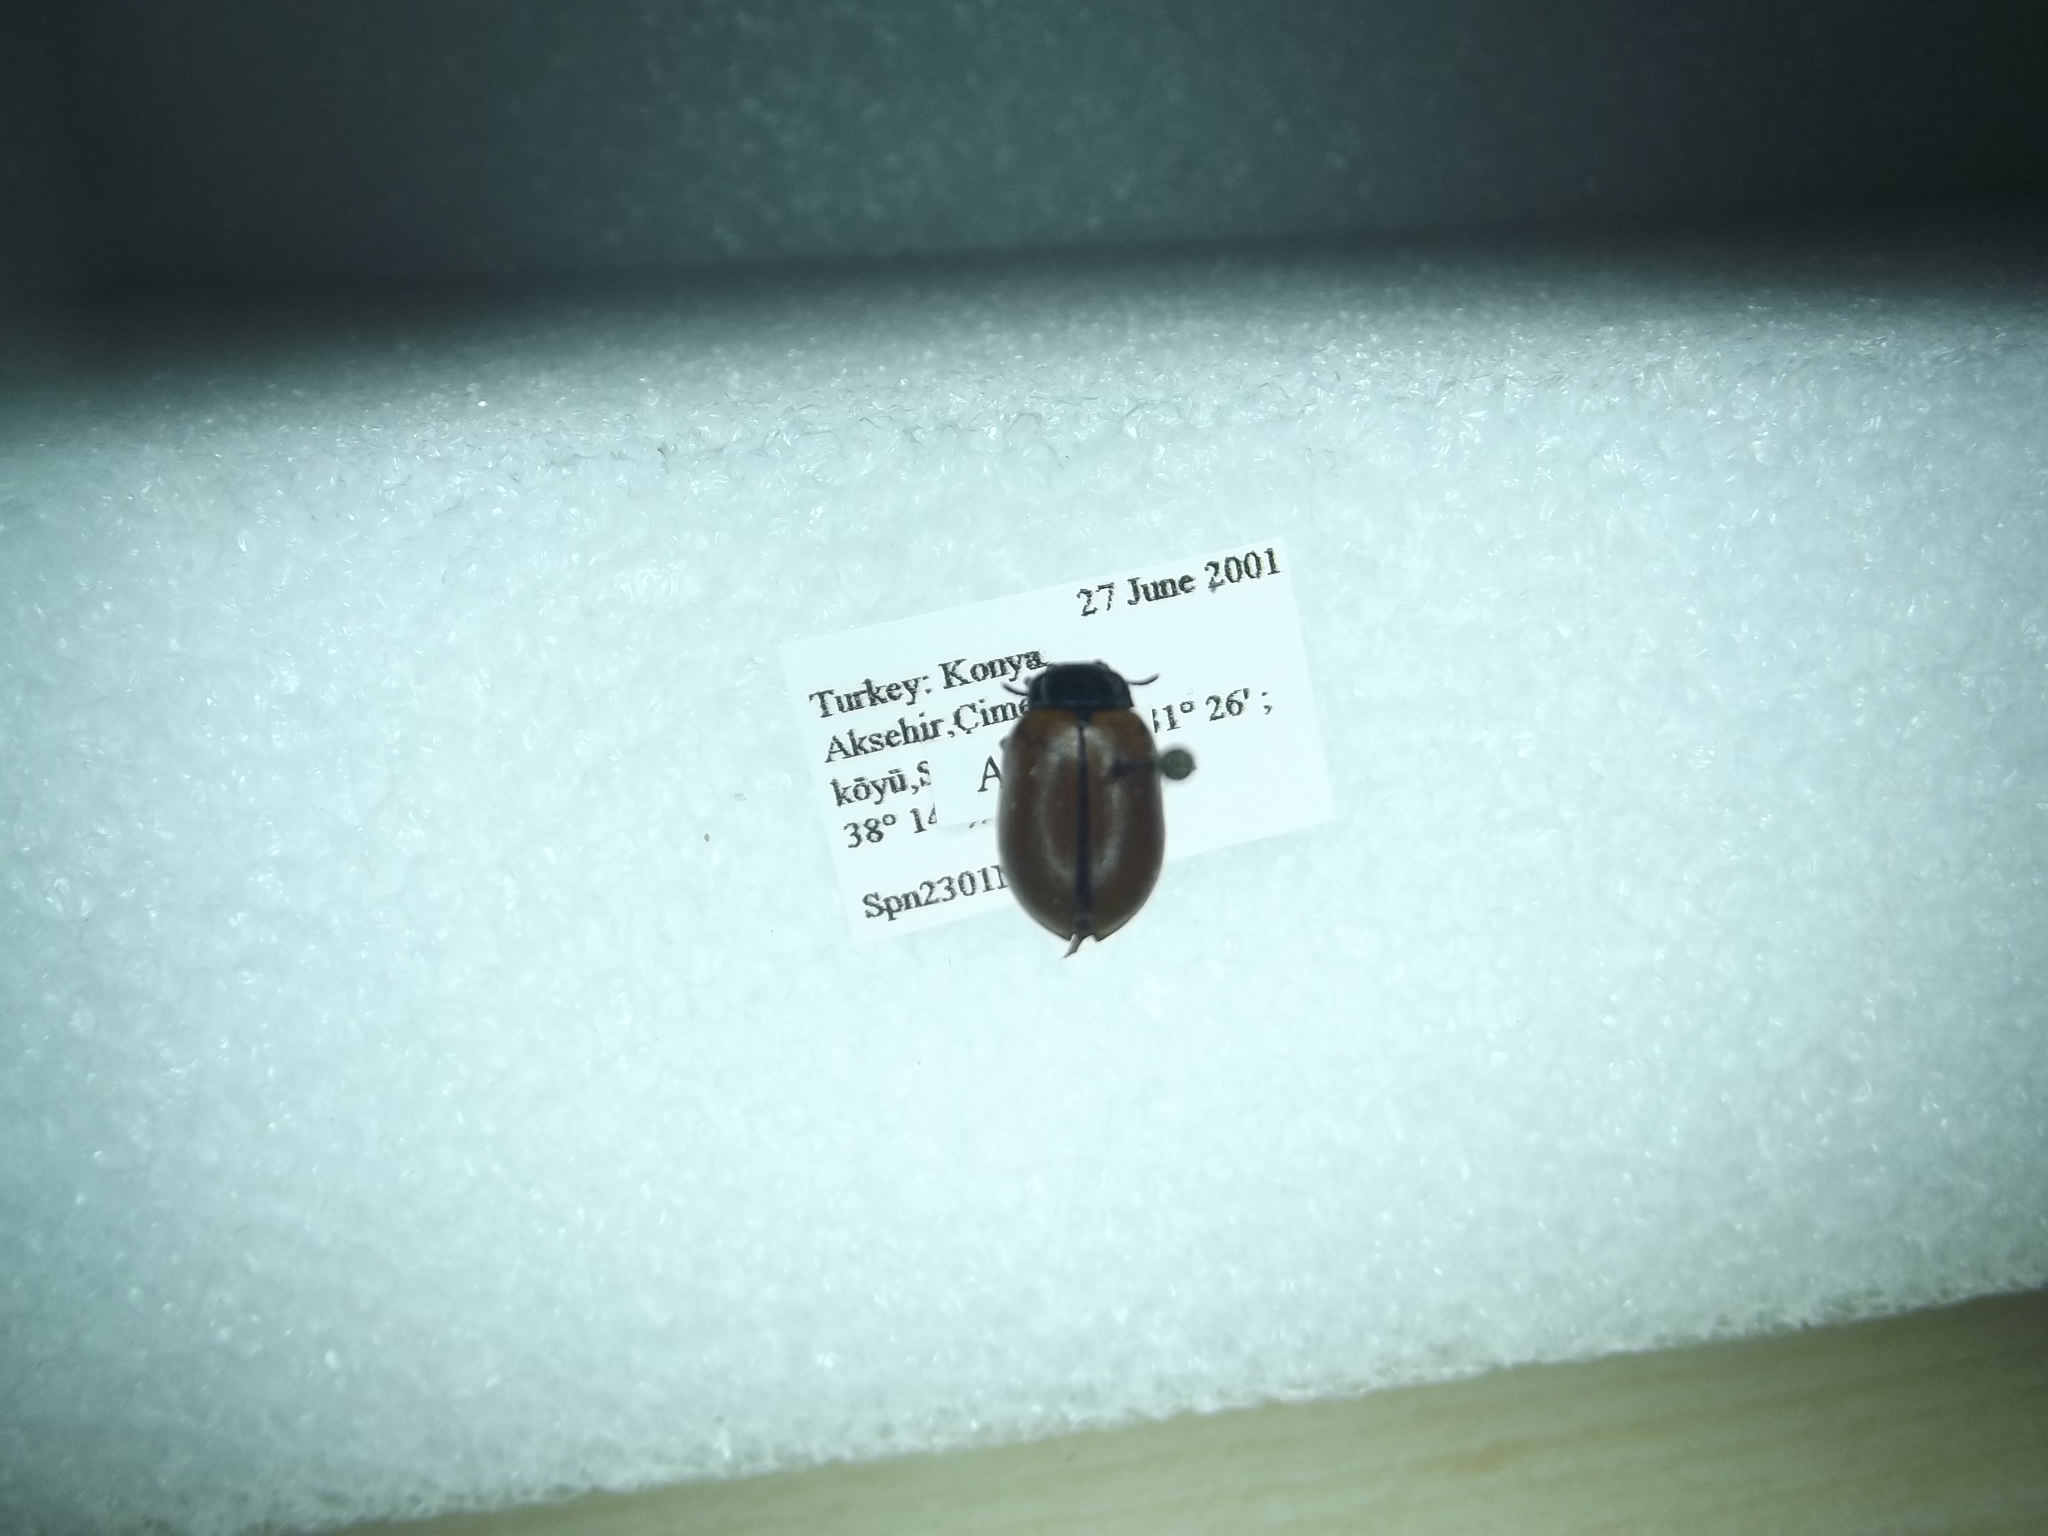Chrysomela_populi: (971, 647, 1168, 962)
